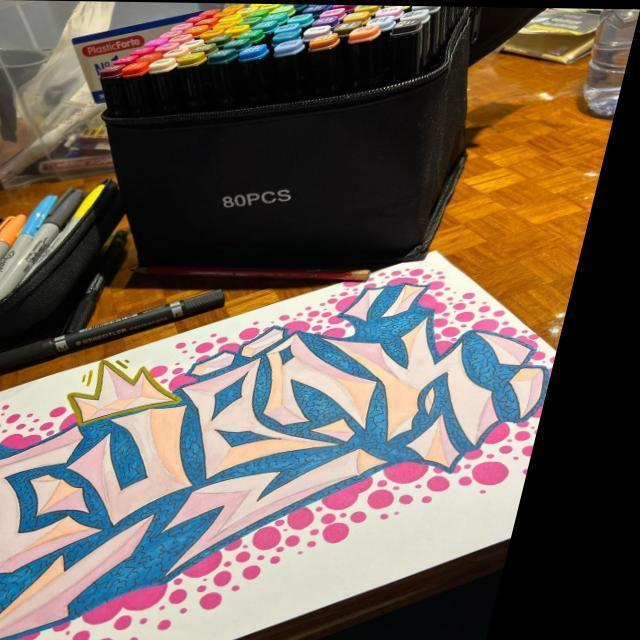nonspitting: (2, 279, 551, 640)
